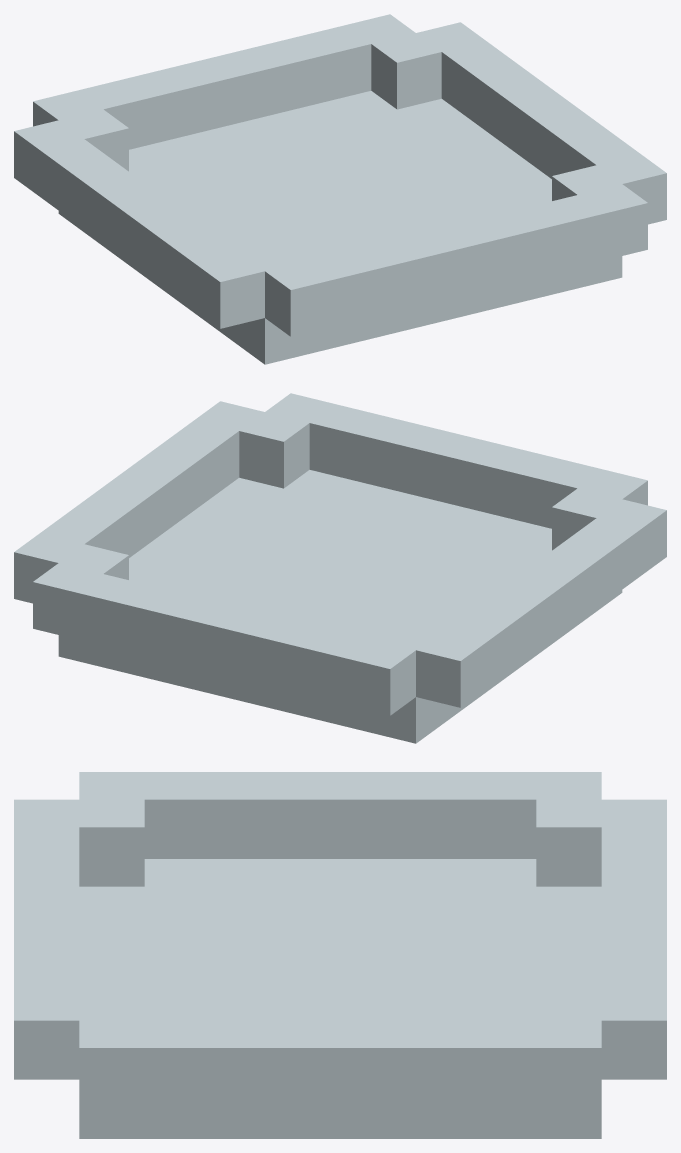
Rendered from plate.gltf.
3 views of the same model, one above another, from view 1: azimuth 30°, elevation 25°; view 2: azimuth 150°, elevation 25°; view 3: azimuth 270°, elevation 25° (orthographic). The views are drawn at different scales.
Parts seen in each view (by area): view 1: mesh (×9); view 2: mesh (×9); view 3: mesh (×9).
Part boxes in pixels (box(x1,y1,x2,y2)): mesh (×9): box(14, 14, 666, 364); mesh (×9): box(14, 393, 666, 743); mesh (×9): box(14, 772, 666, 1138).
Bounding box in the file's own units: 0.625 × 0.125 × 0.625.
Materials: 1 (1 with a texture image).
